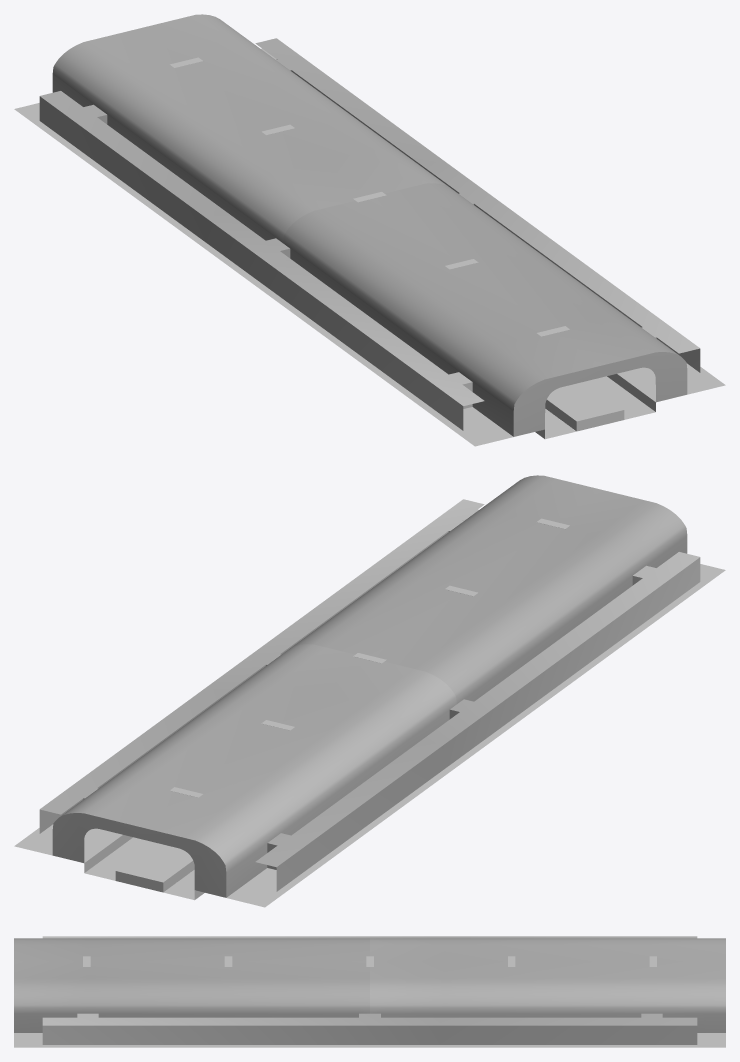
File: StationSymmetrical.fbx
3 views of the same model, one above another, from view 1: azimuth 30°, elevation 25°; view 2: azimuth 150°, elevation 25°; view 3: azimuth 270°, elevation 25° (orthographic). The views are drawn at different scales.
Parts seen in each view (by area): view 1: Shell, LeftBank, CentralBank, Floor, Pillars; view 2: Shell, LeftBank, CentralBank, Floor, Pillars; view 3: Shell, LeftBank, Pillars.
Boxes of the visible parts, <box> form: Shell: <box>39,14,700,436</box>; LeftBank: <box>14,48,725,446</box>; CentralBank: <box>545,381,624,431</box>; Floor: <box>545,376,655,439</box>; Pillars: <box>170,57,569,336</box>; Shell: <box>39,475,700,897</box>; LeftBank: <box>14,509,725,907</box>; CentralBank: <box>115,842,194,892</box>; Floor: <box>84,837,194,899</box>; Pillars: <box>170,518,569,797</box>; Shell: <box>14,936,725,1044</box>; LeftBank: <box>14,1033,725,1047</box>; Pillars: <box>83,956,656,966</box>.
Size of the model in its own units: 31.6 by 7.21 by 101.
